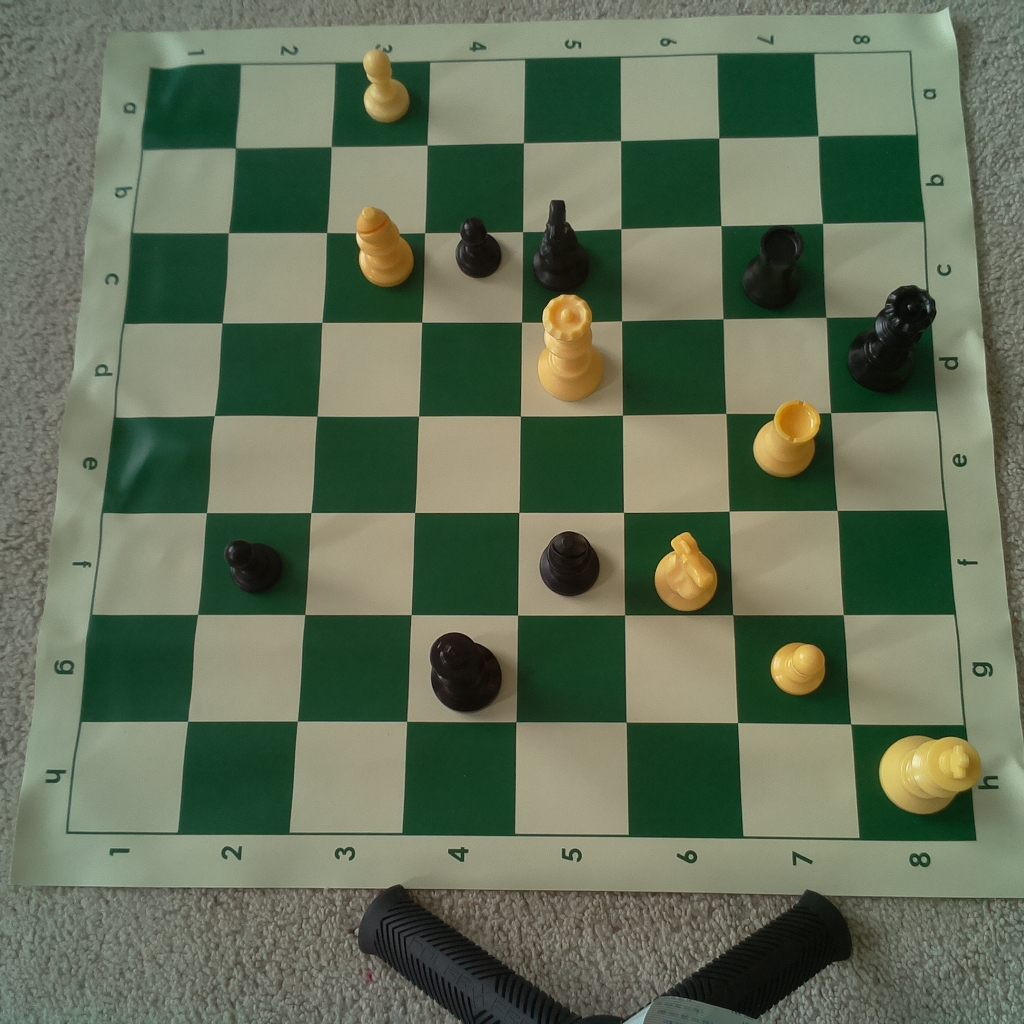black_bishop: (534, 525, 603, 599)
black_king: (423, 626, 505, 713)
black_knight: (527, 196, 597, 292)
black_pawn: (221, 532, 288, 595), (451, 218, 506, 284)
black_queen: (842, 280, 941, 397)
black_rook: (742, 222, 811, 313)
file_a: (142, 53, 920, 152)
file_b: (133, 135, 927, 235)
file_c: (123, 222, 932, 323)
file_d: (115, 315, 938, 417)
file_e: (103, 410, 946, 514)
file_f: (89, 514, 958, 615)
file_g: (80, 614, 966, 726)
file_h: (67, 722, 976, 839)
outline: (71, 53, 977, 841)
rank_1: (66, 64, 242, 832)
rank_2: (179, 64, 333, 834)
rank_3: (288, 61, 432, 839)
rank_4: (401, 61, 525, 835)
rank_5: (512, 58, 628, 835)
rank_6: (620, 56, 746, 838)
rank_7: (718, 54, 862, 839)
rank_8: (812, 53, 975, 841)
white_bishop: (350, 204, 418, 291)
white_king: (877, 726, 983, 821)
white_knight: (649, 522, 724, 617)
white_pawn: (766, 634, 832, 702), (358, 47, 416, 121)
white_queen: (532, 292, 606, 406)
white_rook: (750, 391, 823, 480)
